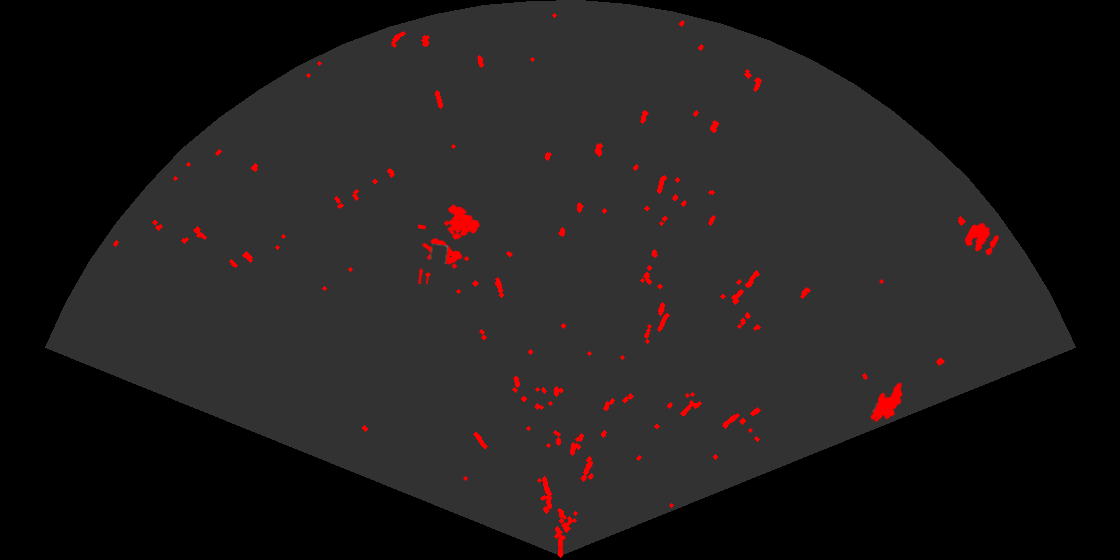AUV: (869, 381, 904, 424)
ball: (963, 221, 1001, 257)
cage: (418, 203, 481, 284)
